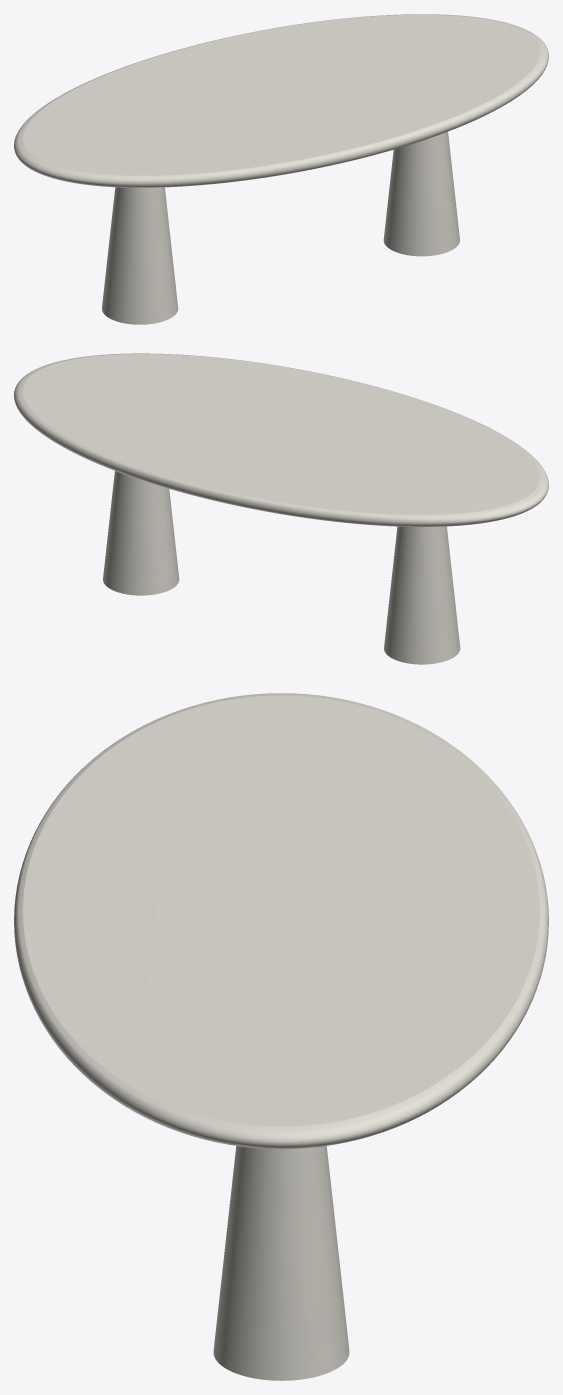
File: pale_ellips_round_pebble.glb
The picture shows the model from 3 angles, top to bottom: view 1: azimuth 30°, elevation 25°; view 2: azimuth 150°, elevation 25°; view 3: azimuth 270°, elevation 25°; orthographic projection. The views are drawn at different scales.
Parts seen in each view (by area): view 1: round_ellips, pebble; view 2: round_ellips, pebble; view 3: round_ellips, pebble.
Boxes of the visible parts, <box> form: round_ellips: <box>14,14,548,187</box>; pebble: <box>102,131,459,324</box>; round_ellips: <box>14,353,548,526</box>; pebble: <box>103,471,460,664</box>; round_ellips: <box>14,693,548,1149</box>; pebble: <box>213,1146,349,1380</box>.
Bounding box in the file's own units: 7.5 × 2.5 × 3.8.
1 material, 1 textured.
